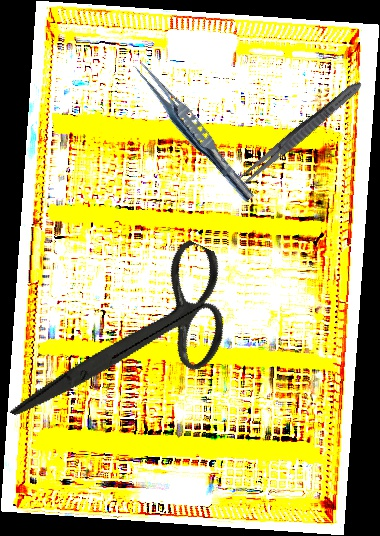Dressing Forceps: (231, 75, 367, 194)
Iris Scissors: (5, 200, 257, 482)
Tissue Forceps: (127, 56, 261, 206)
